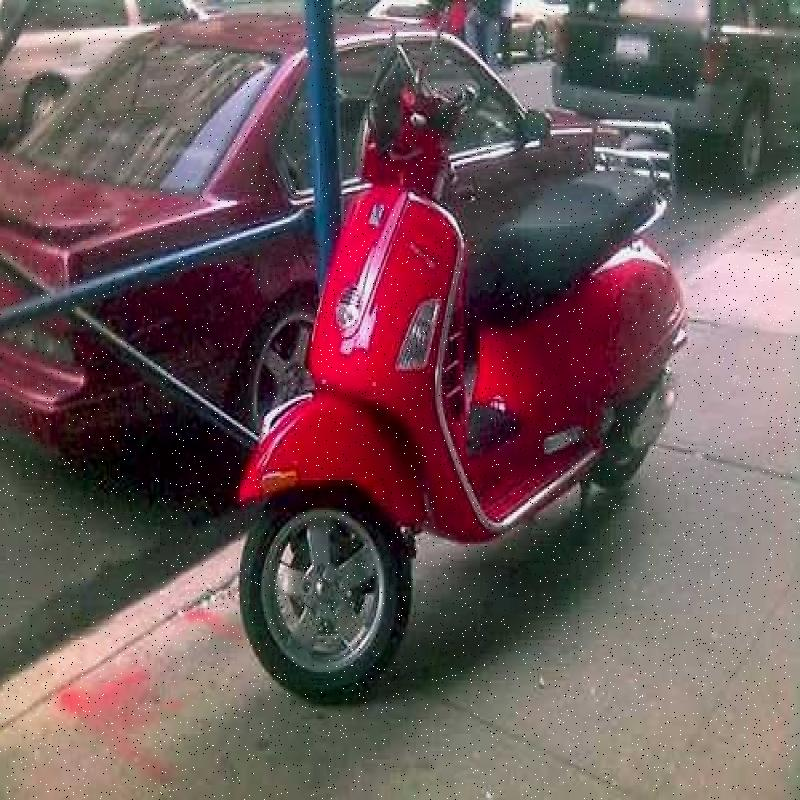bike: (234, 47, 676, 689)
